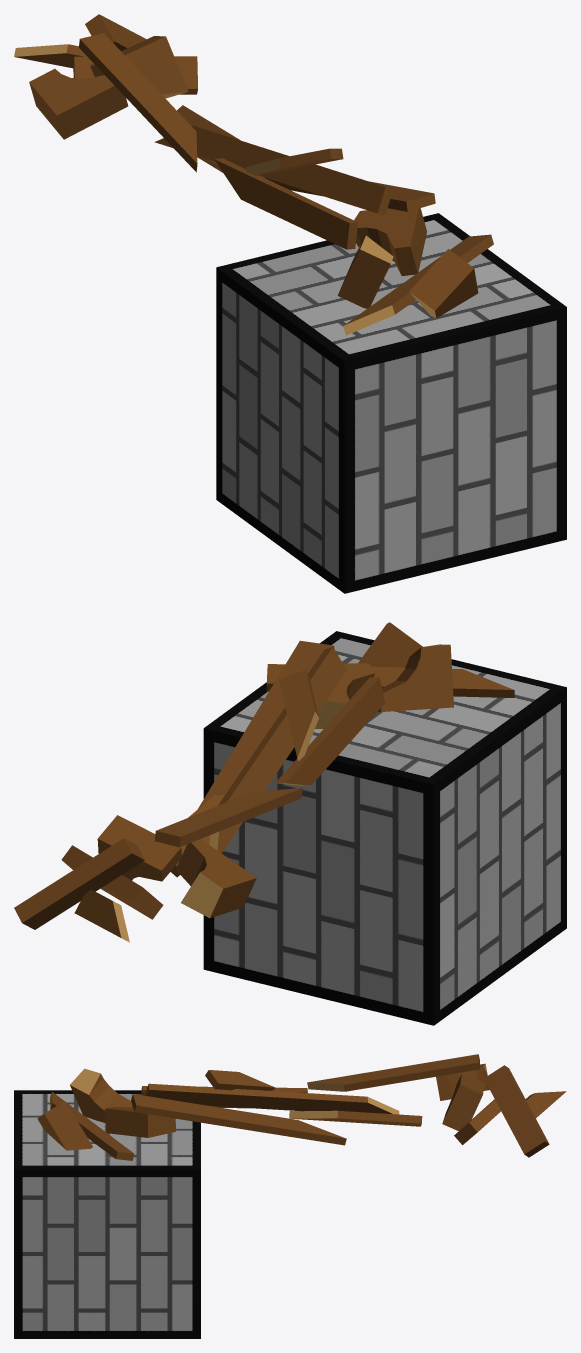
File: BrokenBench.glb
3 views of the same model, one above another, from view 1: azimuth 30°, elevation 25°; view 2: azimuth 150°, elevation 25°; view 3: azimuth 270°, elevation 25° (orthographic). The views are drawn at different scales.
Visible parts, largest first — view 1: StoneBricksBaked, Cube.021, Plane.001; view 2: StoneBricksBaked, Plane.001, Cube.021; view 3: StoneBricksBaked, Cube.021, Plane.001.
Boxes of the visible parts, x1,y1,x2,y2 form: StoneBricksBaked: (14, 14, 566, 593); Cube.021: (409, 249, 478, 318); Plane.001: (343, 234, 493, 335); StoneBricksBaked: (14, 631, 566, 1025); Plane.001: (266, 664, 514, 697); Cube.021: (358, 622, 422, 667); StoneBricksBaked: (14, 1054, 566, 1338); Cube.021: (37, 1101, 92, 1150); Plane.001: (50, 1092, 134, 1160).
Size of the model in its own units: 0.98 by 1.34 by 2.9.
9 materials, 1 textured.
